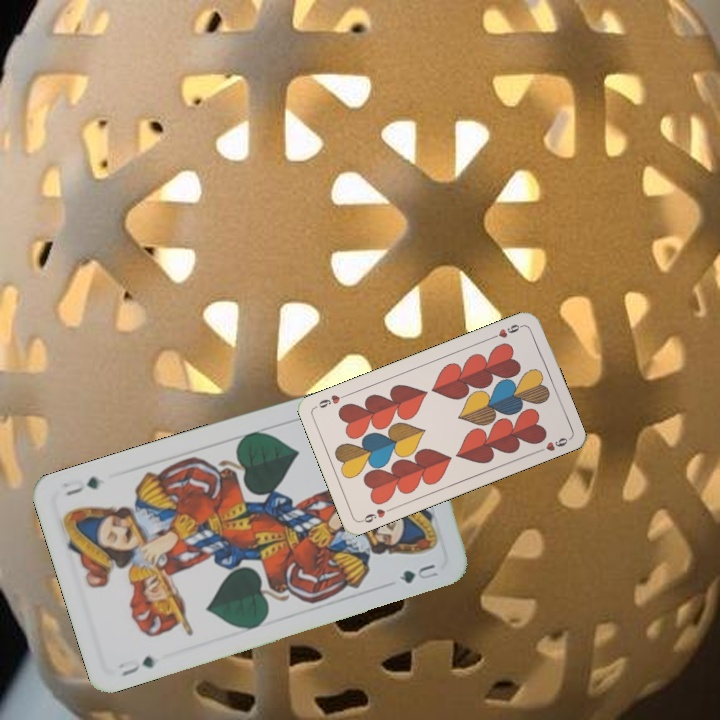GU: (114, 652, 157, 679)
H9: (357, 504, 396, 525), (487, 320, 526, 341)
